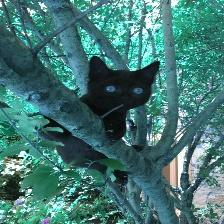kedo: (85, 58, 159, 143)
